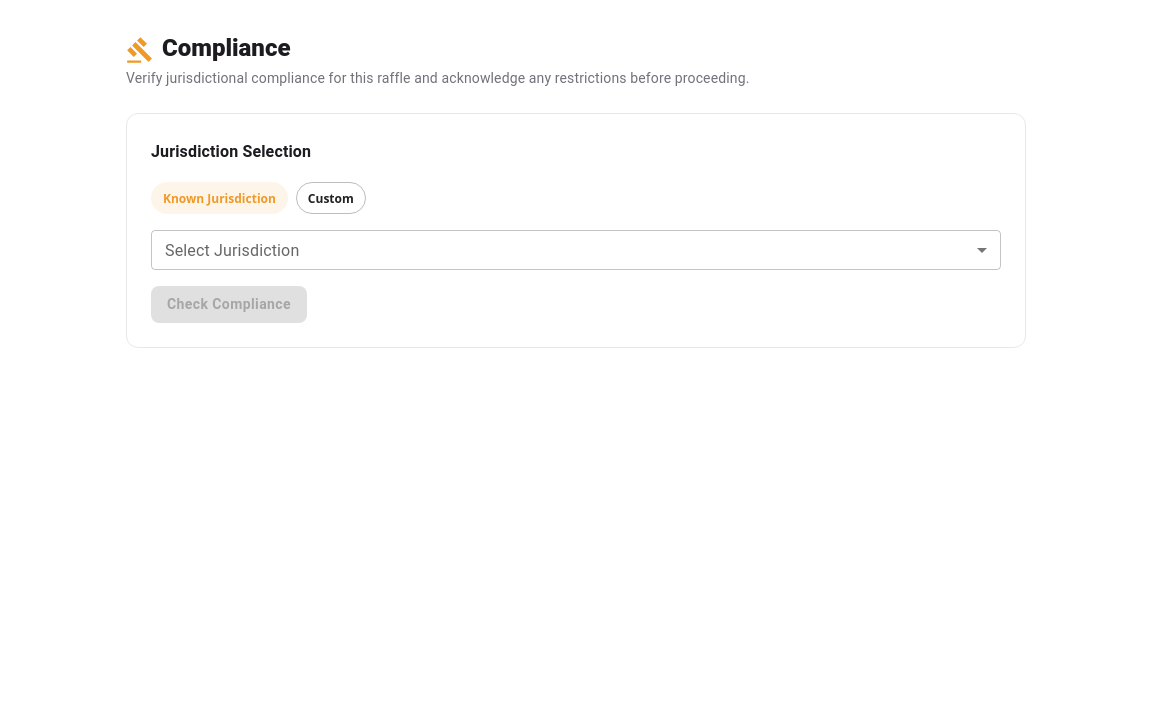
Test: CompliancePanel › shows restricted status with acknowledgment flow
This screenshot has width=1152, height=720.
Click the button "Custom" at (331, 198), box [296, 182, 366, 214]
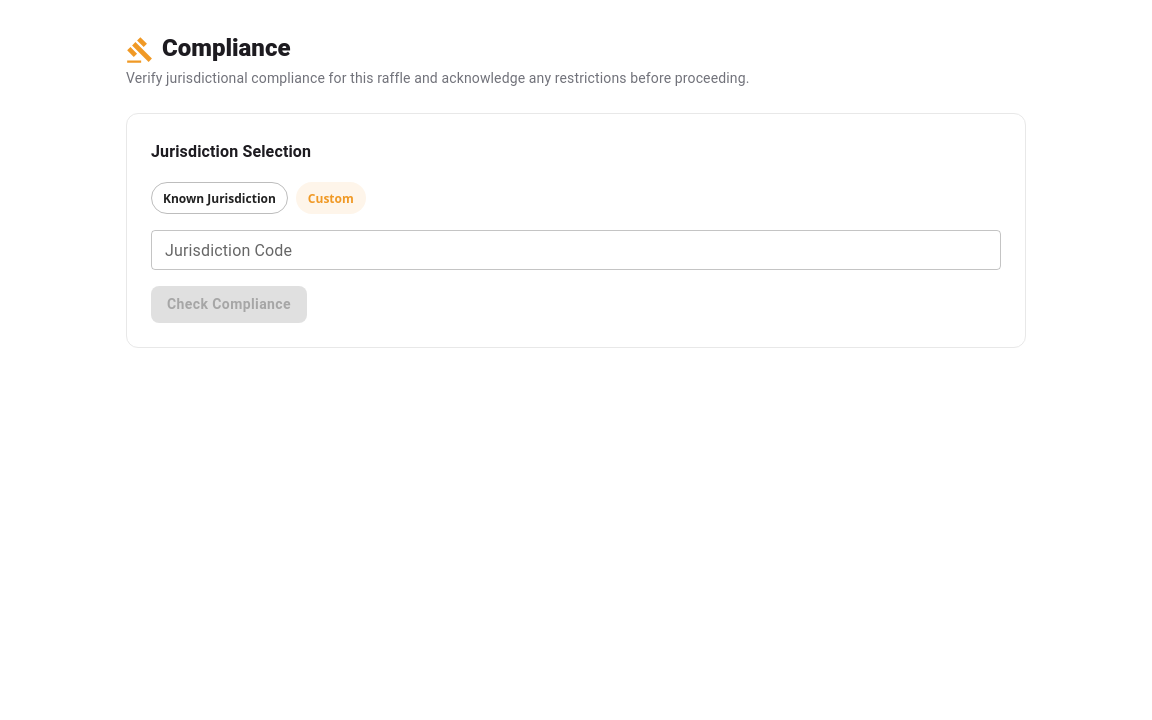
Type "US-CA" into the field labelled "Jurisdiction Code" at (576, 250), box [151, 230, 1001, 270]
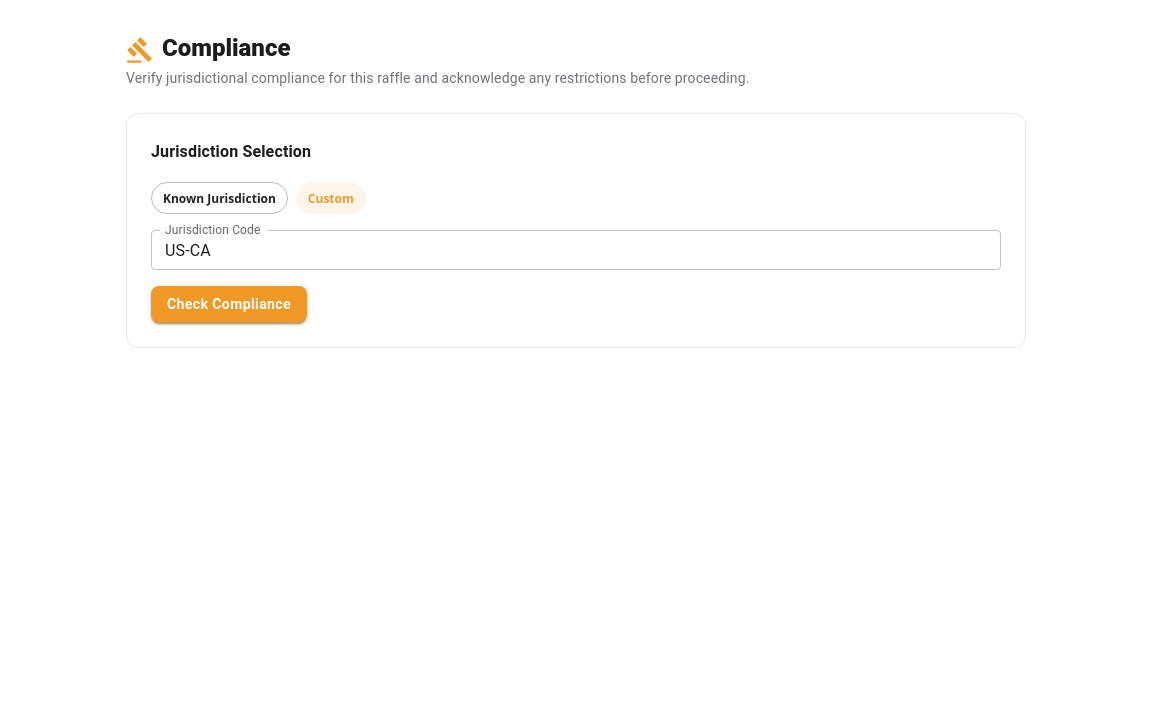
Click the button "Check Compliance" at (229, 304), box [151, 286, 307, 322]
(page scrolled)
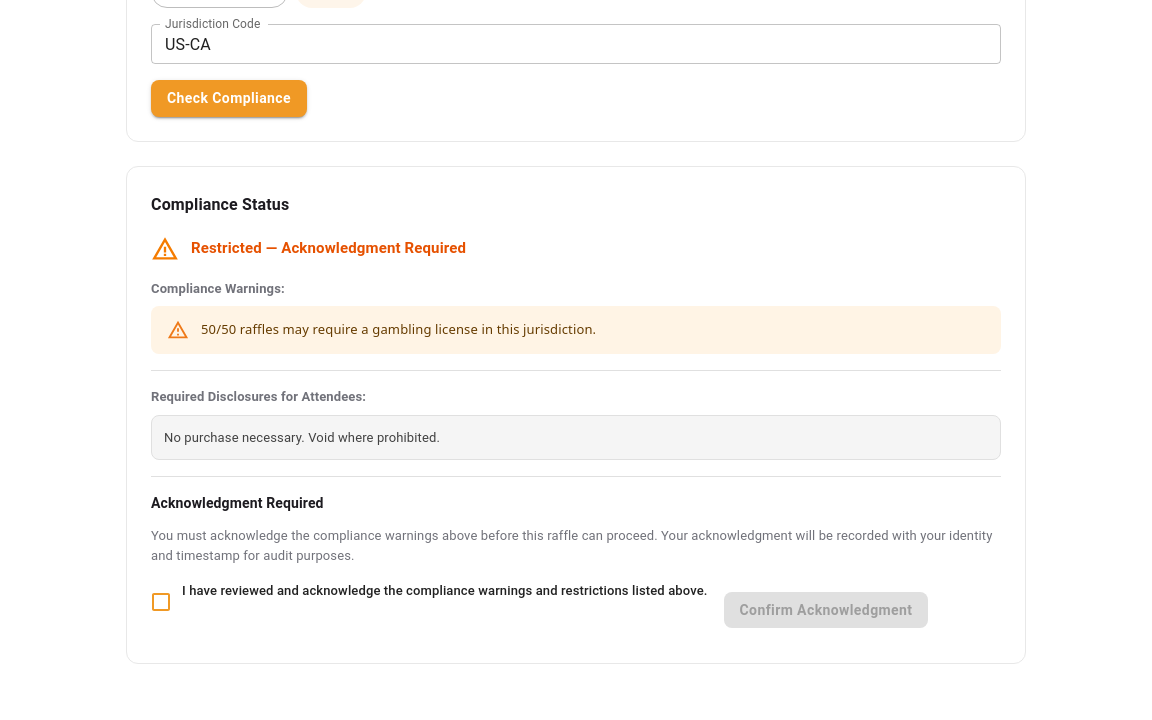
Expected: the text "Restricted — Acknowledgment Required" is shown, [191, 237, 466, 260]
Expected: the text "50/50 raffles may require a gambling license in this jurisdiction." is shown, [201, 320, 596, 338]
Expected: the text "Acknowledgment Required" is shown, [151, 495, 324, 511]
